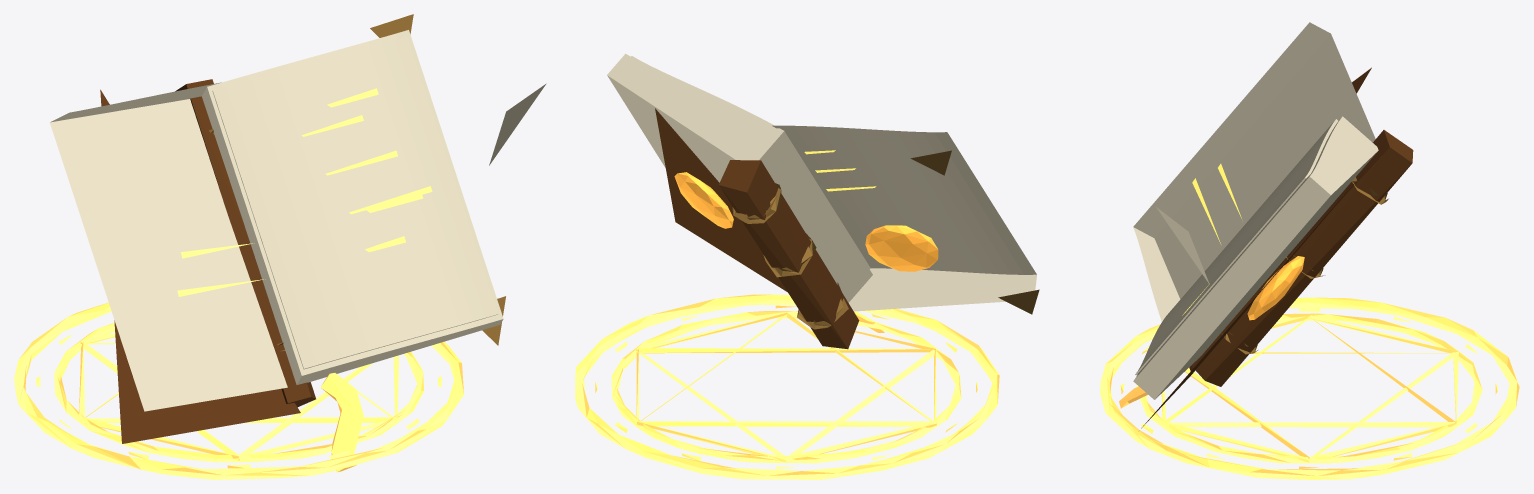
Rendered from tome_0.glb.
3 views of the same model, side by side, from view 1: azimuth 30°, elevation 25°; view 2: azimuth 150°, elevation 25°; view 3: azimuth 270°, elevation 25° (orthographic). The views are drawn at different scales.
Visible parts, largest first — view 1: Page__022, CoverL__002, CoverR__011, Circle__033, CoverL__001, Book__026, Circle__034, Circle__035, Book__032, Orbit__054, Circle__036, Circle__039 (+2 smaller); view 2: CoverL__002, CoverR__011, Circle__033, Book__026, Circle__034, CoverR__010, CoverL__030, Circle__035, Circle__040, CoverR__031, Circle__036, Circle__037 (+5 smaller); view 3: CoverL__002, CoverR__011, Book__026, Circle__033, Page__022, Circle__034, Circle__035, Circle__041, CoverR__031, Circle__036, Circle__038, Orbit__054 (+3 smaller).
Boxes of the visible parts, x1,y1,x2,y2 form: Page__022: (212,36,498,369); CoverL__002: (49,82,287,411); CoverR__011: (202,30,503,384); Circle__033: (14,302,463,479); CoverL__001: (100,89,300,443); Book__026: (175,79,315,407); Circle__034: (54,323,423,462); Circle__035: (79,333,398,461); Book__032: (320,373,363,472); Orbit__054: (489,83,546,165); Circle__036: (238,363,372,456); Circle__039: (82,417,396,422); CoverL__002: (772,125,1036,311); CoverR__011: (607,53,872,302); Circle__033: (575,294,999,479); Book__026: (719,160,859,349); Circle__034: (611,311,961,463); CoverR__010: (655,108,787,291); CoverL__030: (865,225,938,271); Circle__035: (636,312,936,462); Circle__040: (637,421,935,426); CoverR__031: (674,172,733,228); Circle__036: (637,348,935,353); Circle__037: (785,349,937,461); CoverL__002: (1133,22,1375,321); CoverR__011: (1133,116,1378,399); Book__026: (1191,130,1413,386); Circle__033: (1100,297,1519,479); Page__022: (1135,119,1338,375); Circle__034: (1136,313,1482,463); Circle__035: (1161,315,1458,462); Circle__041: (1163,422,1455,427); CoverR__031: (1247,256,1304,320); Circle__036: (1185,368,1309,458); Circle__038: (1310,352,1453,460); Orbit__054: (1156,207,1209,284).
Bounding box in the file's own units: 0.2729 × 0.189 × 0.2354.
